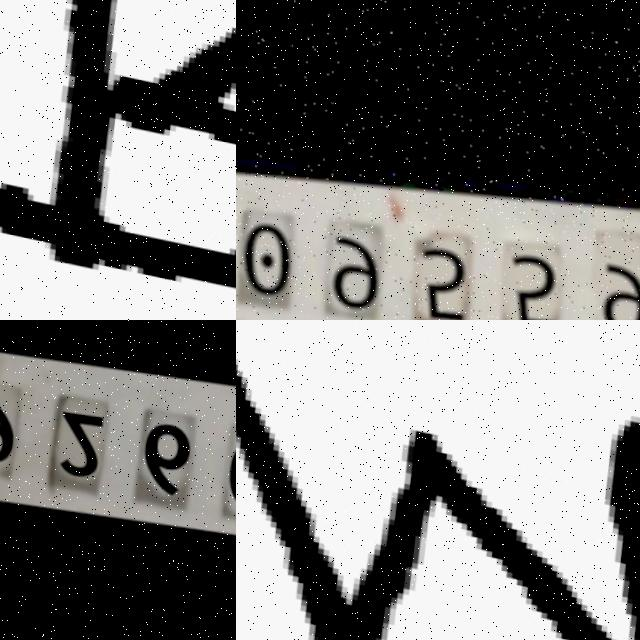0: (236, 189, 315, 320), (209, 419, 236, 523)
2: (38, 393, 110, 493)
5: (382, 214, 487, 320), (472, 221, 577, 320)
6: (120, 400, 201, 510)
9: (295, 205, 401, 320), (559, 222, 640, 320), (0, 380, 22, 480)
M: (236, 320, 640, 640)
R: (0, 0, 236, 320)
